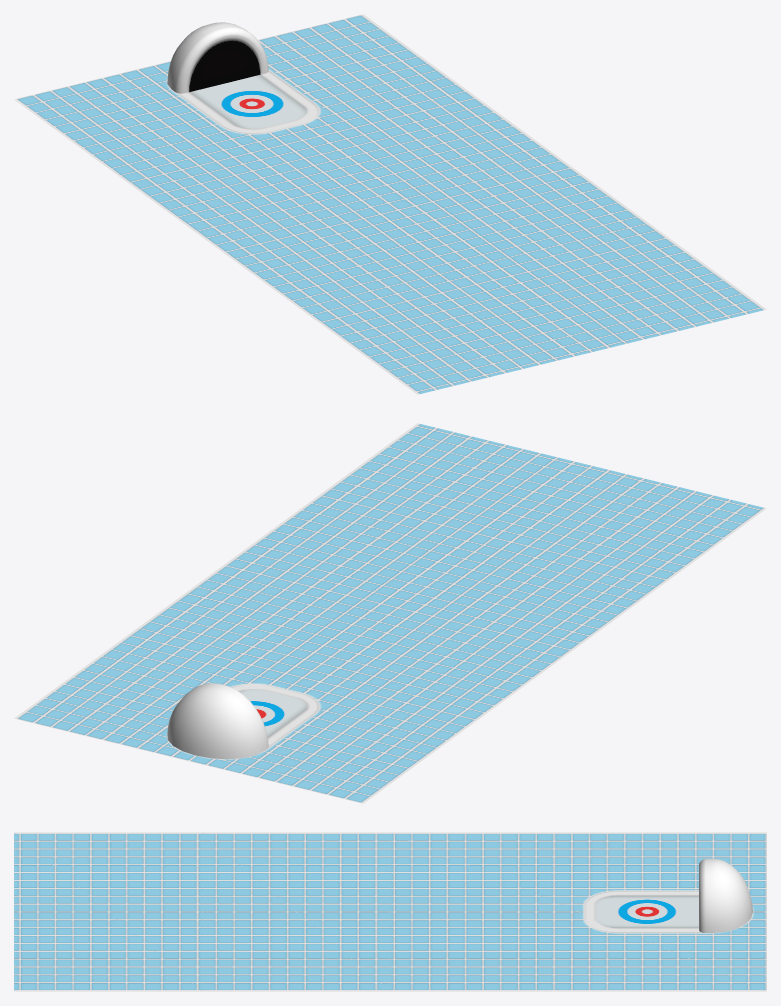
File: unchi_curling.fbx
The picture shows the model from 3 angles, top to bottom: view 1: azimuth 30°, elevation 25°; view 2: azimuth 150°, elevation 25°; view 3: azimuth 270°, elevation 25°; orthographic projection. The views are drawn at different scales.
Parts seen in each view (by area): view 1: unchi_curling; view 2: unchi_curling; view 3: unchi_curling.
Boxes of the visible parts, left/top/right/bottom form: unchi_curling: left=14, top=14, right=766, bottom=394; unchi_curling: left=14, top=423, right=766, bottom=803; unchi_curling: left=14, top=832, right=766, bottom=991.
Size of the model in its own units: 60 by 8.69 by 120.
Materials: 1 (1 with a texture image).
